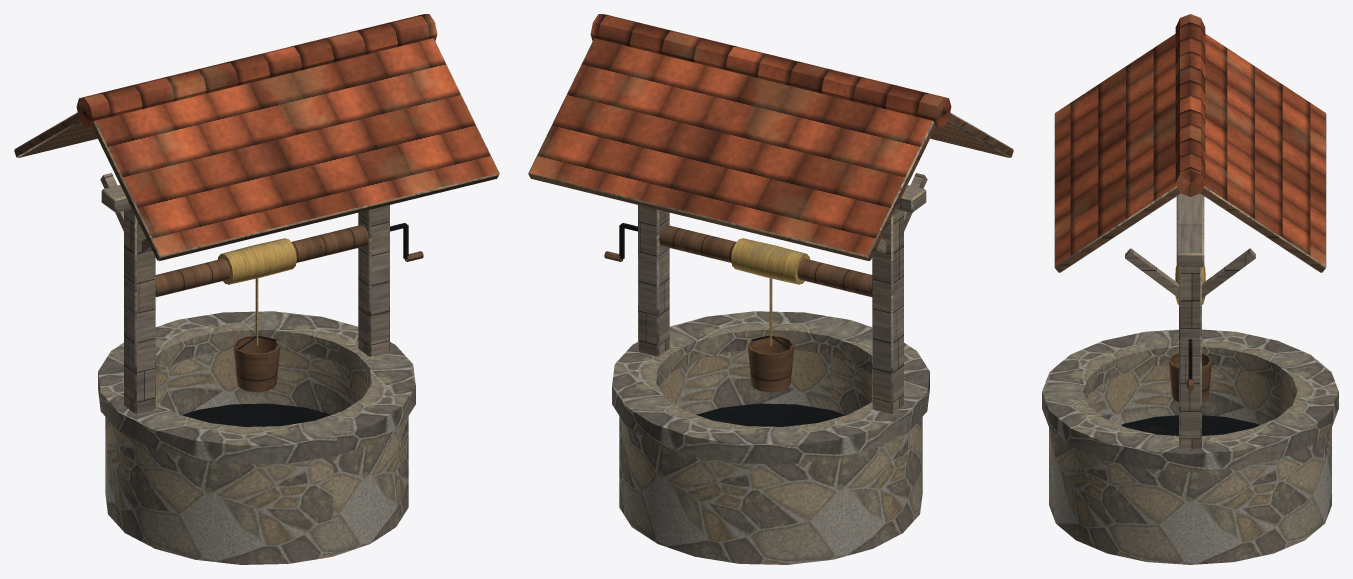
File: well.glb
The picture shows the model from 3 angles, left to right: view 1: azimuth 30°, elevation 25°; view 2: azimuth 150°, elevation 25°; view 3: azimuth 270°, elevation 25°; orthographic projection. The views are drawn at different scales.
Visible parts, largest first — view 1: well; view 2: well; view 3: well.
Boxes of the visible parts, bbox=[...] form: well: bbox=[14, 14, 499, 564]; well: bbox=[528, 14, 1013, 564]; well: bbox=[1042, 14, 1338, 564].
Size of the model in its own units: 3.24 by 3.99 by 2.6.
Materials: 8 (8 with a texture image).
